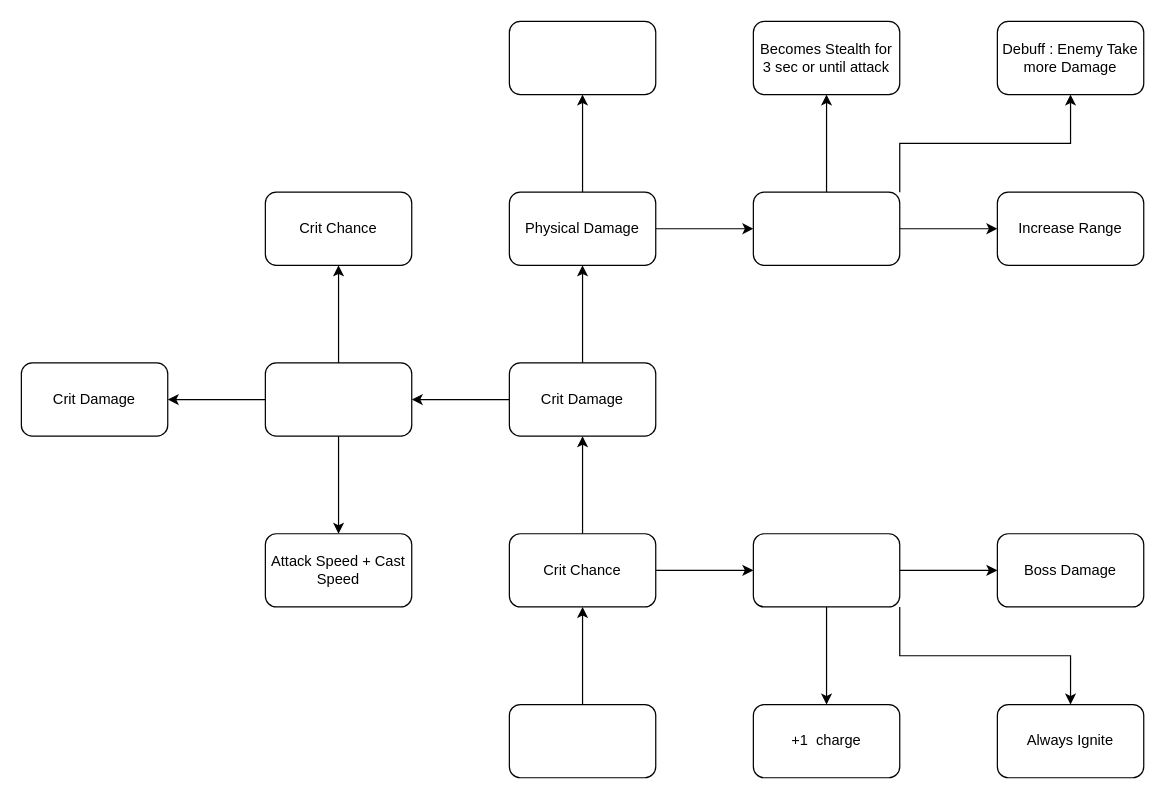
Some shapes in this 1165 by 799 pixel diagram are drawn without their labels. Each missing label, with the box of its shape:
Chain Grab - Physical Damage: (752, 191, 900, 265)
Fire Cube - Close stab - Fire Damage: (752, 533, 900, 607)
Passive Increase Damage: (264, 362, 412, 436)
Stab Damage: (508, 20, 656, 95)
Stab Damage Flat Health: (508, 703, 656, 778)
